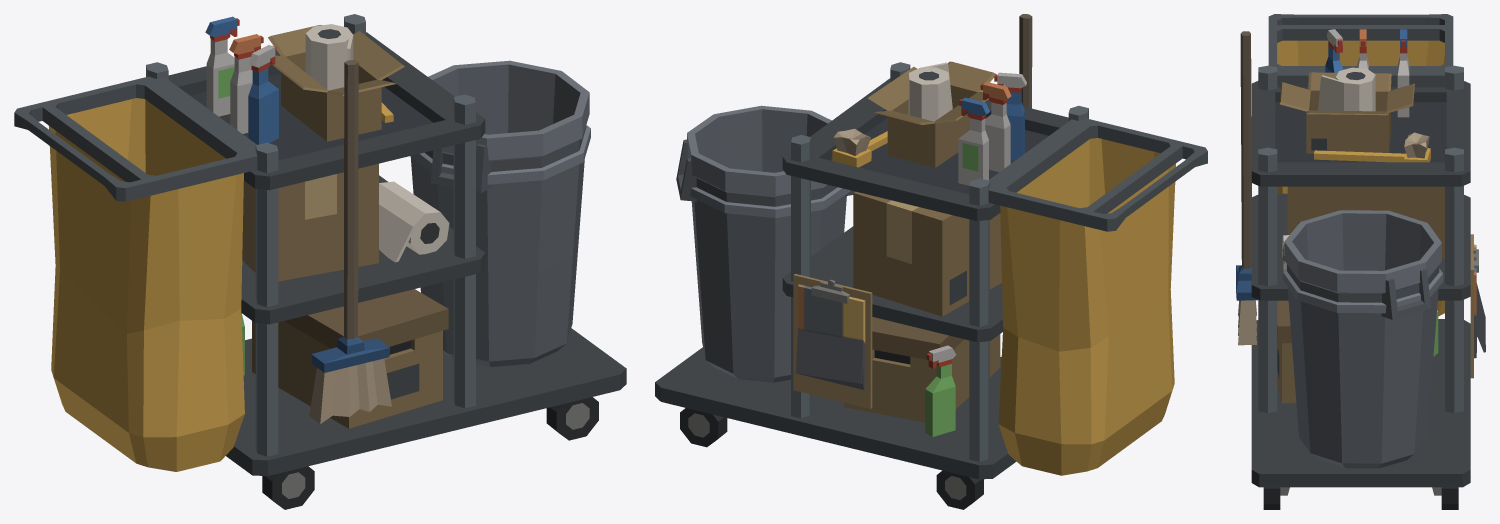
File: Janitor_Cart.fbx
The picture shows the model from 3 angles, left to right: view 1: azimuth 30°, elevation 25°; view 2: azimuth 150°, elevation 25°; view 3: azimuth 270°, elevation 25°; orthographic projection. The views are drawn at different scales.
Bounding box in the file's own units: 160 × 130 × 78.66.
1 material, 1 textured.
